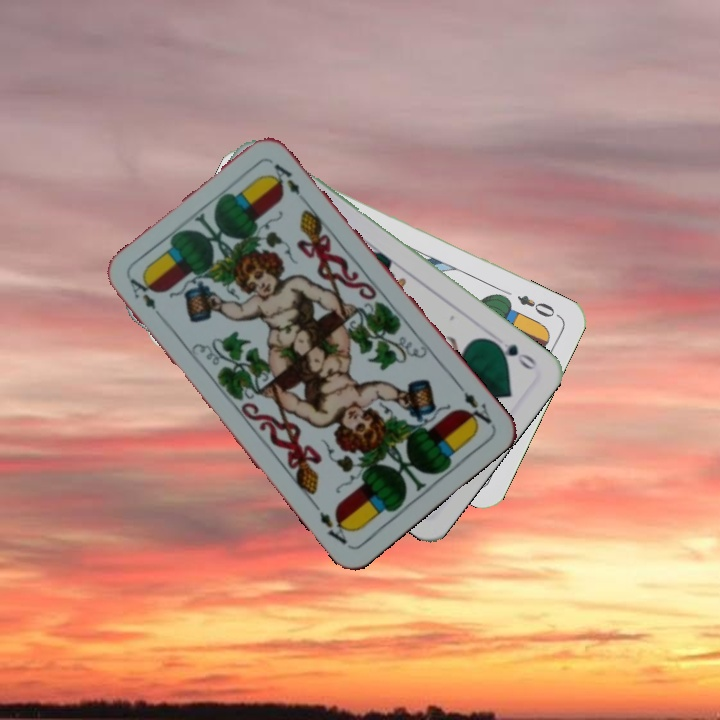EA: (453, 378, 494, 430), (125, 274, 167, 324)
EO: (513, 291, 562, 320)
GO: (486, 336, 539, 373)
